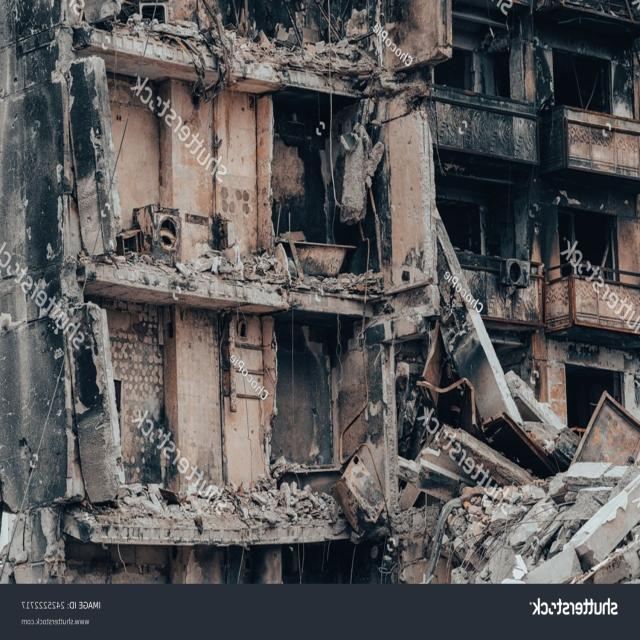Destroyed_building: (0, 3, 639, 583)
